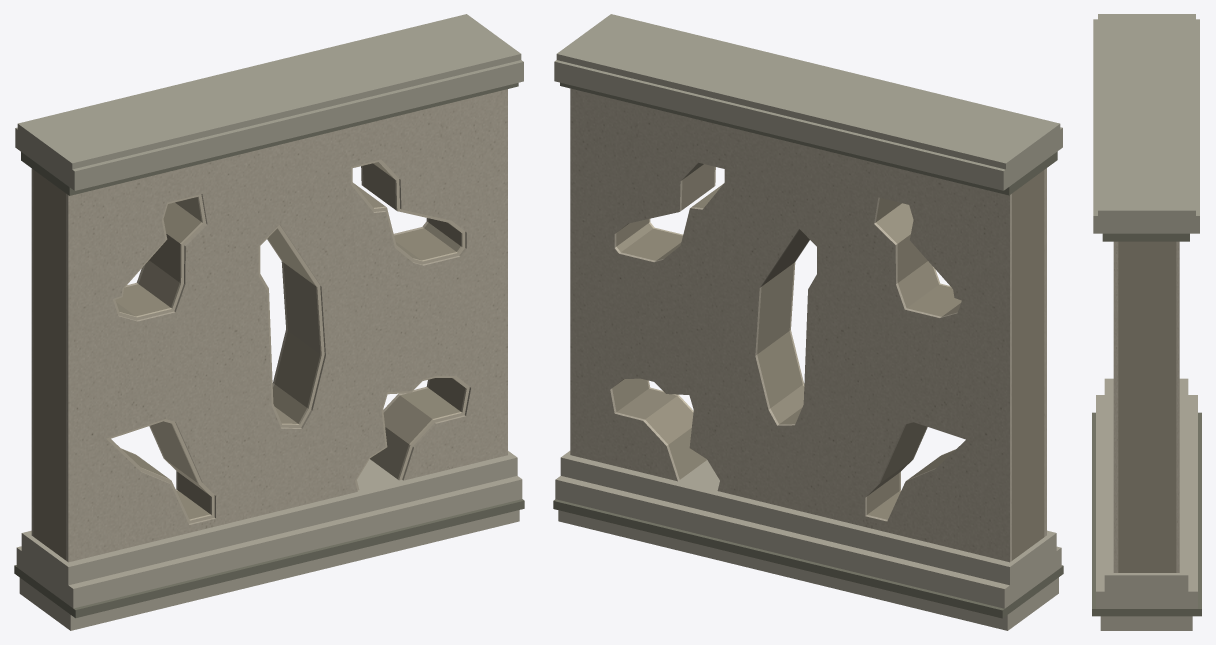
The model's file is changning-lianan-pierced-balustrade-panel-raw.glb.
The picture shows the model from 3 angles, left to right: view 1: azimuth 30°, elevation 25°; view 2: azimuth 150°, elevation 25°; view 3: azimuth 270°, elevation 25°; orthographic projection. The views are drawn at different scales.
Parts seen in each view (by area): view 1: 联安坊老住宅阳台水泥透花栏板; view 2: 联安坊老住宅阳台水泥透花栏板; view 3: 联安坊老住宅阳台水泥透花栏板.
Part boxes in pixels (box(x1,y1,x2,y2)): 联安坊老住宅阳台水泥透花栏板: box(14, 14, 524, 630); 联安坊老住宅阳台水泥透花栏板: box(553, 14, 1063, 630); 联安坊老住宅阳台水泥透花栏板: box(1092, 14, 1201, 630).
Bounding box in the file's own units: 0.695 × 0.693 × 0.164.
Materials: 6 (1 with a texture image).
